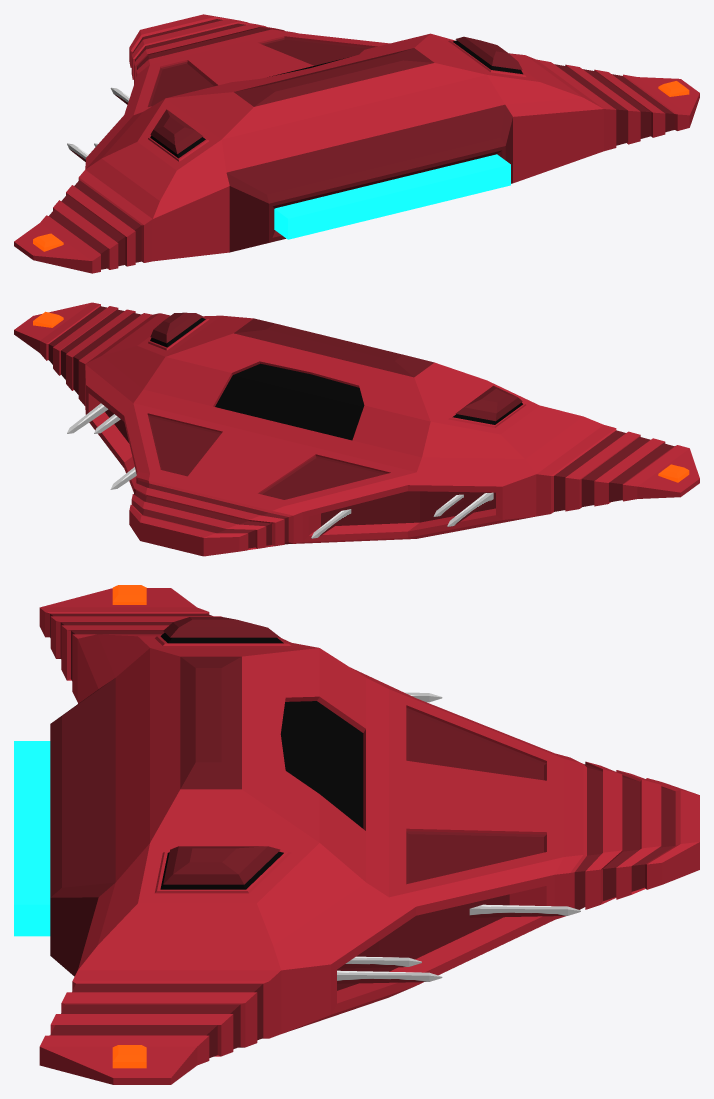
File: spaceship.gltf
The picture shows the model from 3 angles, top to bottom: view 1: azimuth 30°, elevation 25°; view 2: azimuth 150°, elevation 25°; view 3: azimuth 270°, elevation 25°; orthographic projection. The views are drawn at different scales.
Parts seen in each view (by area): view 1: Ship Hull, Exhaust; view 2: Ship Hull; view 3: Ship Hull, Exhaust, Right Light.
Part boxes in pixels (x1=…): Ship Hull: x1=14, y1=14, x2=699, y2=273; Exhaust: x1=274, y1=154, x2=510, y2=239; Ship Hull: x1=14, y1=302, x2=699, y2=556; Ship Hull: x1=39, y1=588, x2=699, y2=1084; Exhaust: x1=14, y1=741, x2=50, y2=936; Right Light: x1=112, y1=1045, x2=146, y2=1068.
Size of the model in its own units: 15.88 by 2.69 by 9.39.
Materials: 3 (1 with a texture image).
